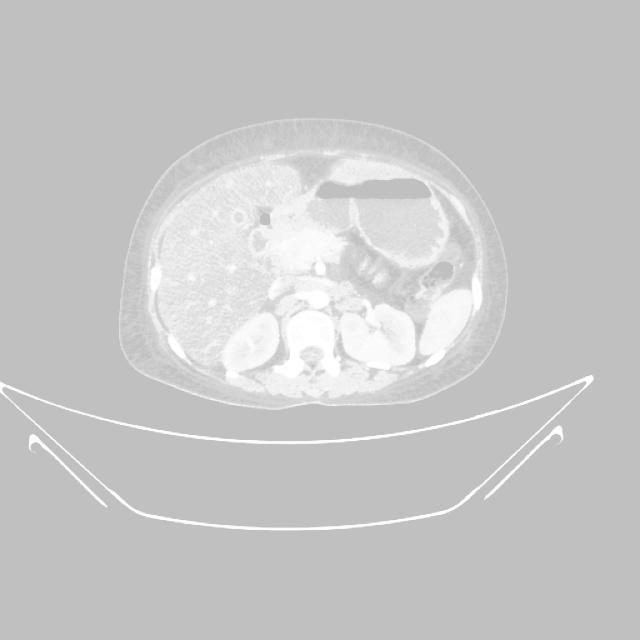NORMAL: (102, 132, 533, 401)
